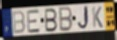B: (59, 6, 74, 33), (12, 10, 26, 35), (45, 8, 59, 33)
E: (26, 9, 41, 34)
J: (76, 5, 90, 31)
K: (91, 6, 104, 29)
